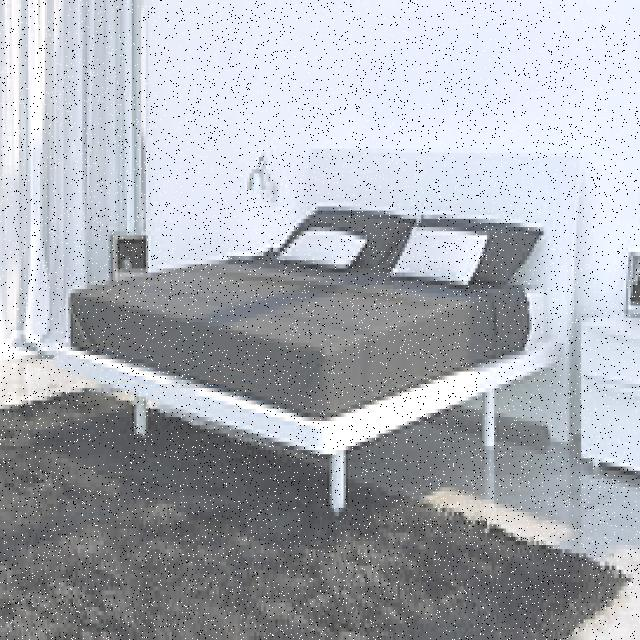bed: (70, 154, 578, 502)
